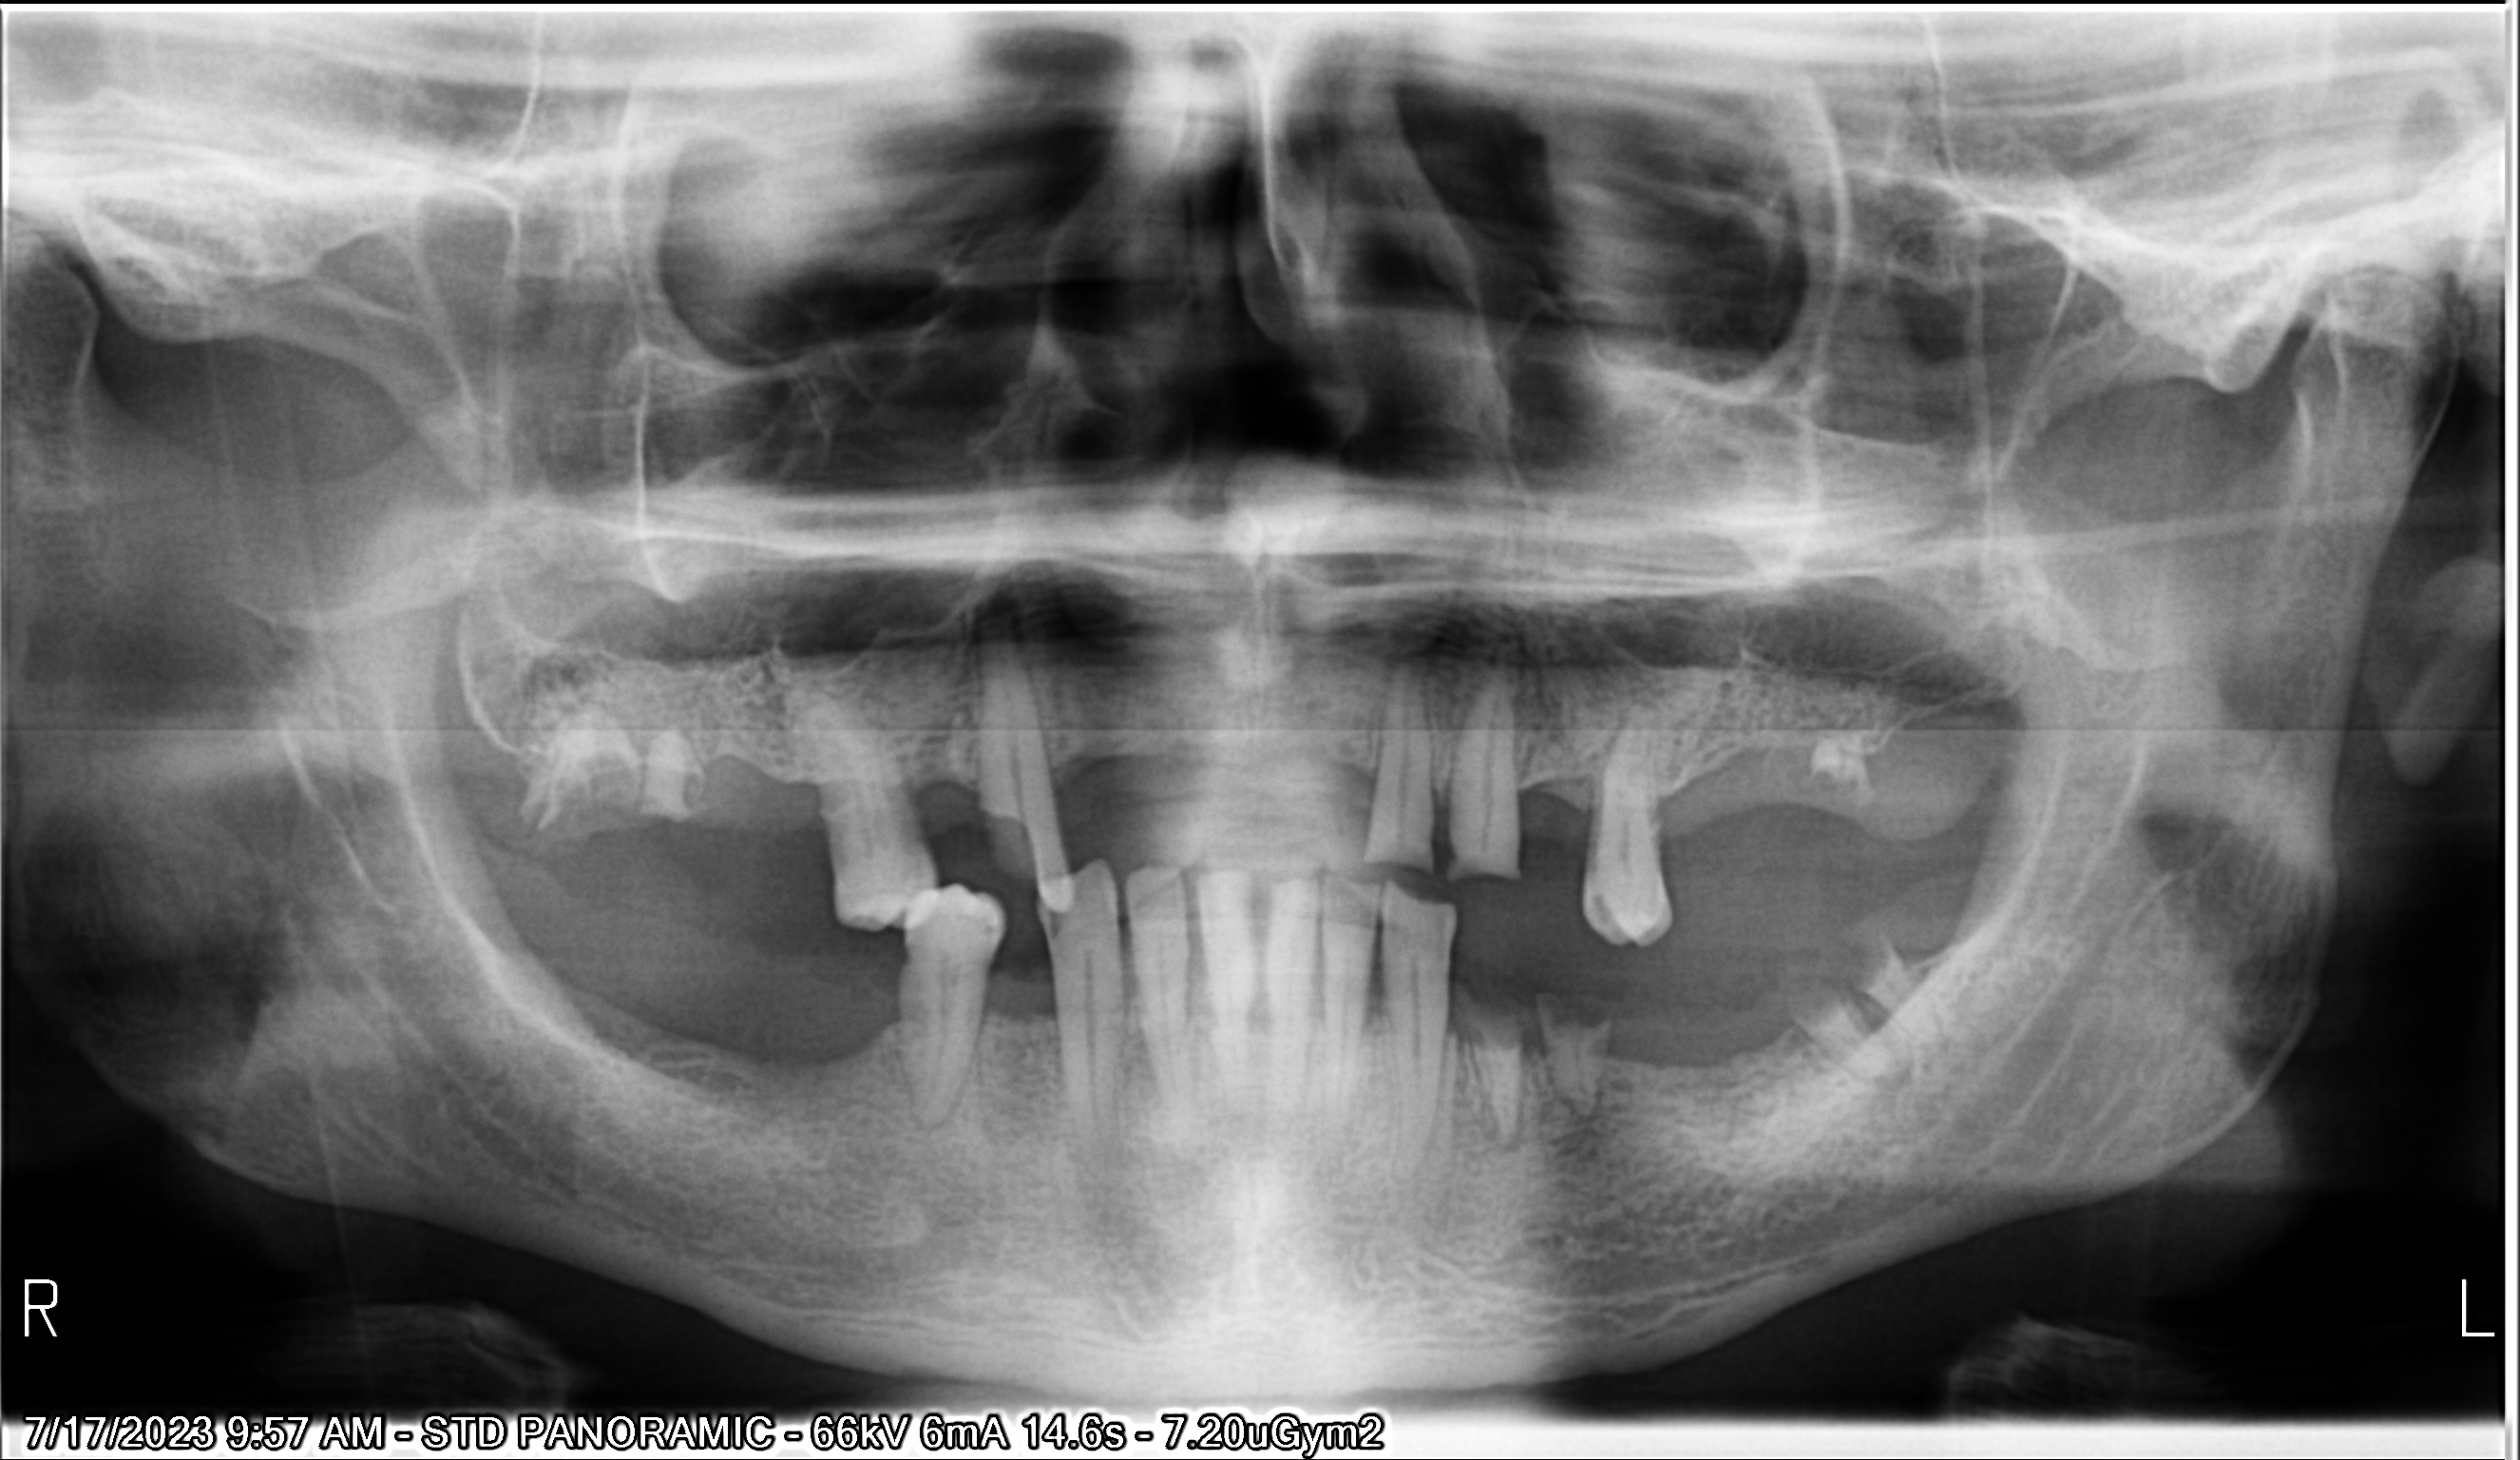BON: (1530, 700, 1629, 862), (1167, 921, 1235, 1036), (1358, 937, 1407, 1052), (1289, 928, 1336, 1039), (1101, 940, 1141, 1065), (1245, 930, 1282, 1034)
CAR: (947, 775, 1058, 907)
ROT: (1733, 952, 1947, 1093), (1435, 954, 1558, 1170), (1824, 890, 1966, 1069), (495, 702, 655, 826), (1785, 699, 1936, 812), (1527, 961, 1613, 1131), (636, 709, 705, 841)
